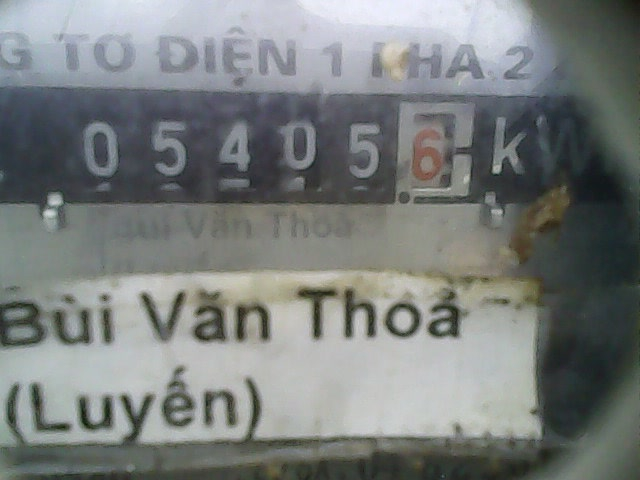phy_plate: (59, 85, 491, 224)
